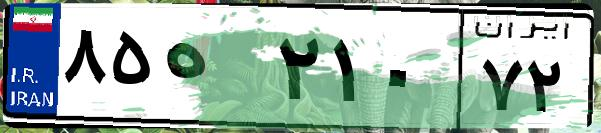0: (385, 28, 445, 110)
1: (330, 28, 385, 110)
2: (270, 28, 330, 110), (525, 38, 570, 115)
5: (110, 28, 158, 98)
7: (475, 38, 525, 113)
8: (57, 26, 110, 100)
ه: (158, 20, 270, 120)
